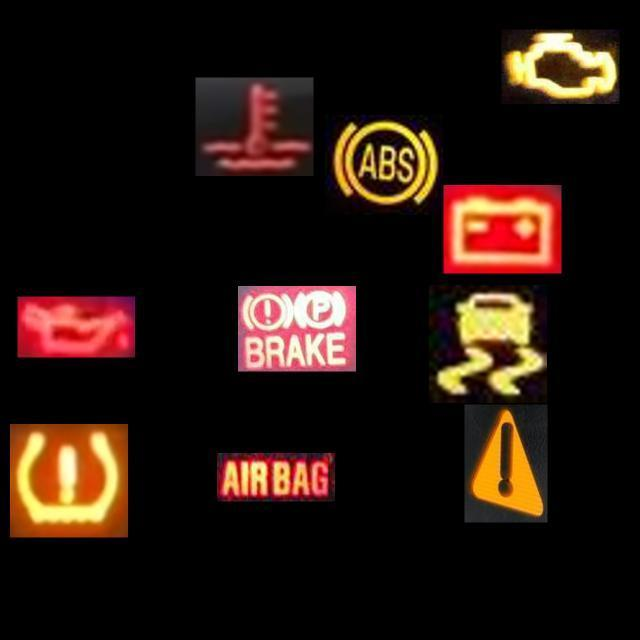Central Warning lamp: (464, 404, 548, 522)
Engine cooling system: (195, 77, 314, 176)
